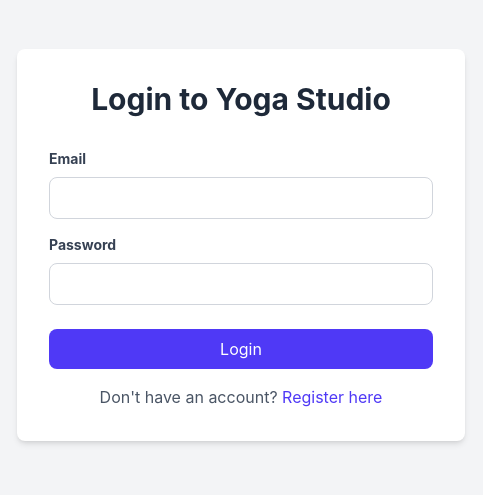
Test: Login › should display custom error message on Error
This screenshot has width=483, height=495.
Type "wrong-email@test.com" into the field labelled "Email". click: (241, 198)
box: [49,177,433,219]
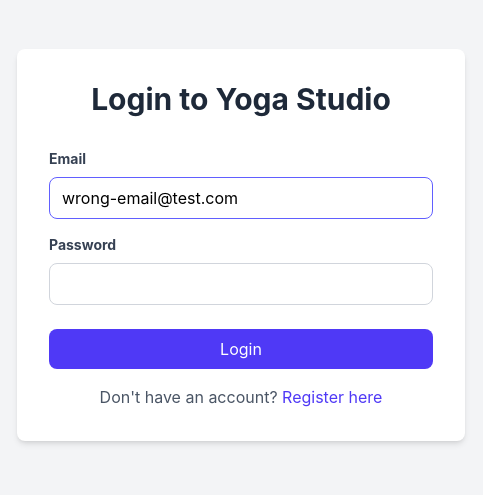
Type "wrongpassword" into the password field labelled "Password". click: (241, 284)
box: [49,263,433,305]
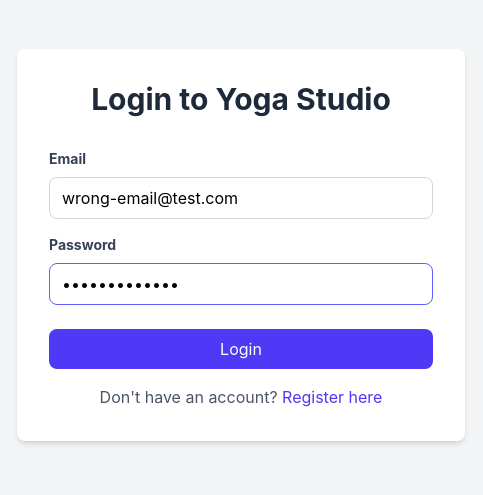
Click the button "Login". click: (241, 349)
box: [49,329,433,369]
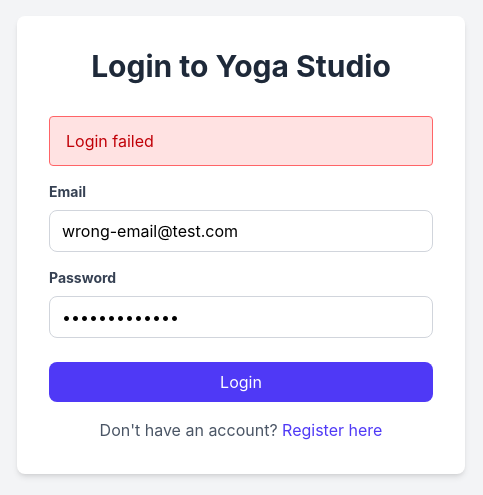
Check: the text "Login failed" is shown, box [49,116,433,166]
